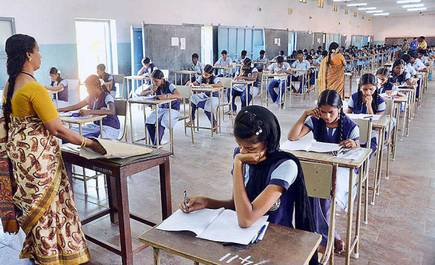invigilator: (6, 28, 87, 253), (321, 37, 344, 101)
student: (163, 101, 295, 239), (289, 88, 359, 157), (66, 69, 119, 123), (348, 65, 389, 117), (141, 65, 182, 107), (189, 58, 218, 111), (227, 55, 258, 102), (263, 56, 291, 95), (382, 60, 407, 84)
